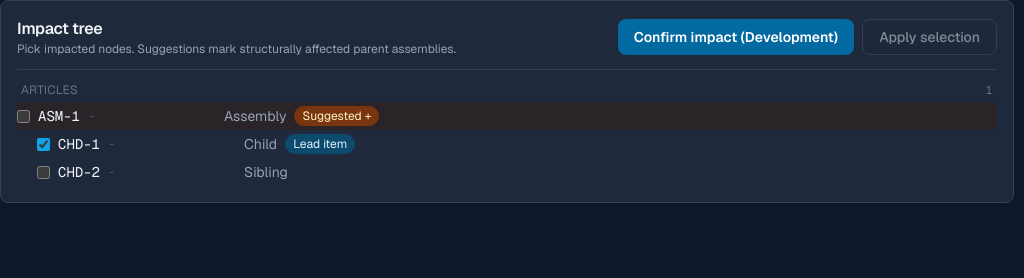
it: ImpactTree, spec §16 › shows suggestions as their own chip that adds the part
The width and height of the screenshot is (1024, 278).
What coordinates should you click on to do the following:
click the button with test id "impact-suggested-1"
I would click on:
 (337, 116)
Its box is [294, 106, 379, 126].
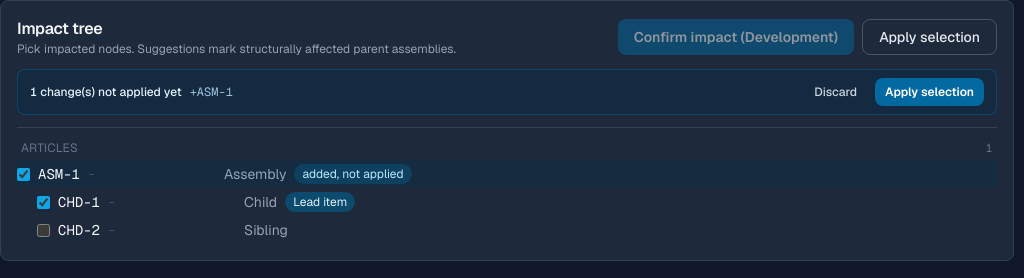
Now the checkbox named "Assembly" is checked, box [17, 168, 30, 180]
